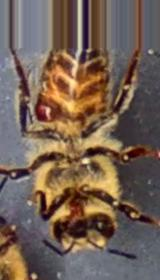varroa_mite: (26, 92, 62, 128)
